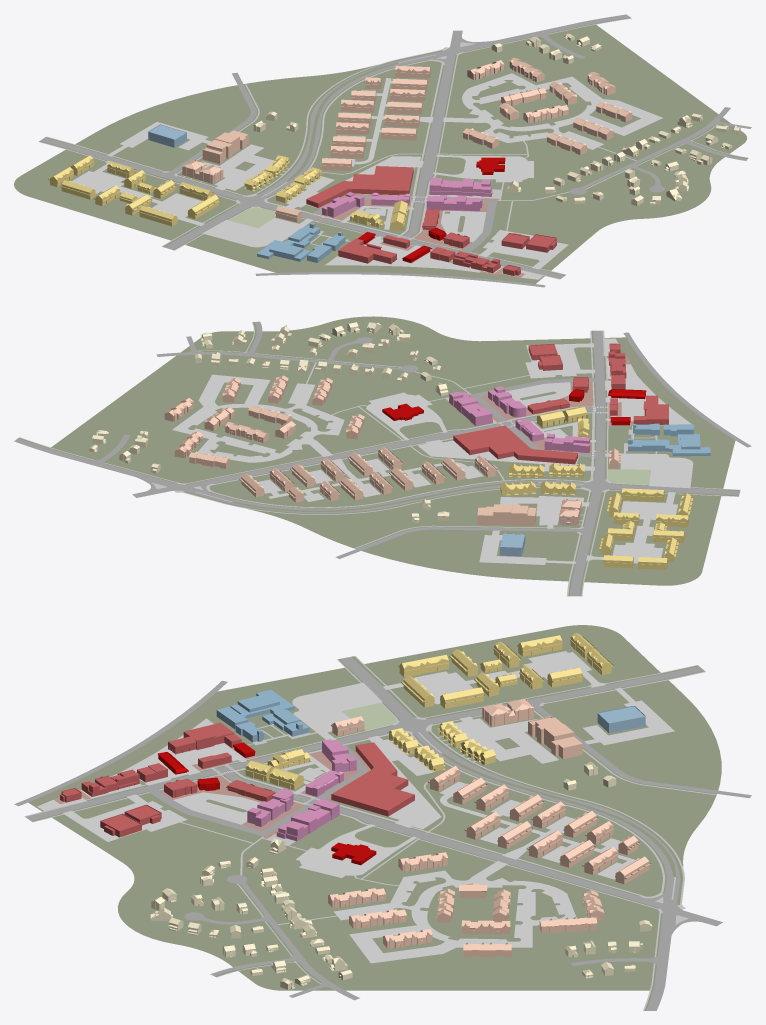
File: NeighborhoodActivityCenter_CC.glb
The picture shows the model from 3 angles, top to bottom: view 1: azimuth 30°, elevation 25°; view 2: azimuth 150°, elevation 25°; view 3: azimuth 270°, elevation 25°; orthographic projection. The views are drawn at different scales.
Parts seen in each view (by area): view 1: Group1.007, Group93.005, Group92.005, Multifamily_7_1.003, Commercial_9_1, Mixed_Use_28_1, mixed_use7_1, Mixed_Use_31_1.001, Mixed_Use_29_1, Group80.005, Group89.005, Townhomes20.001; view 2: Group1.007, Group93.005, Group92.005, Multifamily_7_1.003, Commercial_9_1, Mixed_Use_29_1, Mixed_Use_28_1, Mixed_Use_31_1.001, Townhomes21.001, Group89.005; view 3: Group1.007, Group93.005, Group92.005, Multifamily_7_1.003, Commercial_9_1, Mixed_Use_28_1, Mixed_Use_31_1.001, mixed_use7_1, Group80.005, Mixed_Use_29_1, Townhomes20.001, Group89.005 (+4 smaller).
Part boxes in pixels (<box>): Group1.007: <box>14,14,751,287</box>; Group93.005: <box>306,166,413,207</box>; Group92.005: <box>257,231,345,262</box>; Multifamily_7_1.003: <box>202,130,248,164</box>; Commercial_9_1: <box>338,238,396,263</box>; Mixed_Use_28_1: <box>440,179,492,196</box>; mixed_use7_1: <box>453,251,500,273</box>; Mixed_Use_31_1.001: <box>148,124,186,147</box>; Mixed_Use_29_1: <box>322,192,364,217</box>; Group80.005: <box>440,195,482,211</box>; Group89.005: <box>287,222,320,248</box>; Townhomes20.001: <box>138,205,177,226</box>; Group1.007: <box>14,316,751,596</box>; Group93.005: <box>453,425,577,464</box>; Group92.005: <box>633,423,710,456</box>; Multifamily_7_1.003: <box>477,504,536,525</box>; Commercial_9_1: <box>633,395,668,425</box>; Mixed_Use_29_1: <box>544,433,590,452</box>; Mixed_Use_28_1: <box>449,391,485,420</box>; Mixed_Use_31_1.001: <box>500,533,525,556</box>; Townhomes21.001: <box>622,488,664,501</box>; Group89.005: <box>628,438,669,451</box>; Group1.007: <box>14,625,751,1010</box>; Group93.005: <box>331,742,414,816</box>; Group92.005: <box>216,689,294,742</box>; Multifamily_7_1.003: <box>528,716,582,758</box>; Commercial_9_1: <box>168,722,241,754</box>; Mixed_Use_28_1: <box>276,804,331,841</box>; Mixed_Use_31_1.001: <box>597,706,645,733</box>; mixed_use7_1: <box>81,769,139,796</box>; Group80.005: <box>247,798,290,826</box>; Mixed_Use_29_1: <box>322,739,356,771</box>; Townhomes20.001: <box>398,654,449,677</box>; Group89.005: <box>262,709,309,736</box>.
Bounding box in the file's own units: 28.62 × 0.5442 × 23.13.
